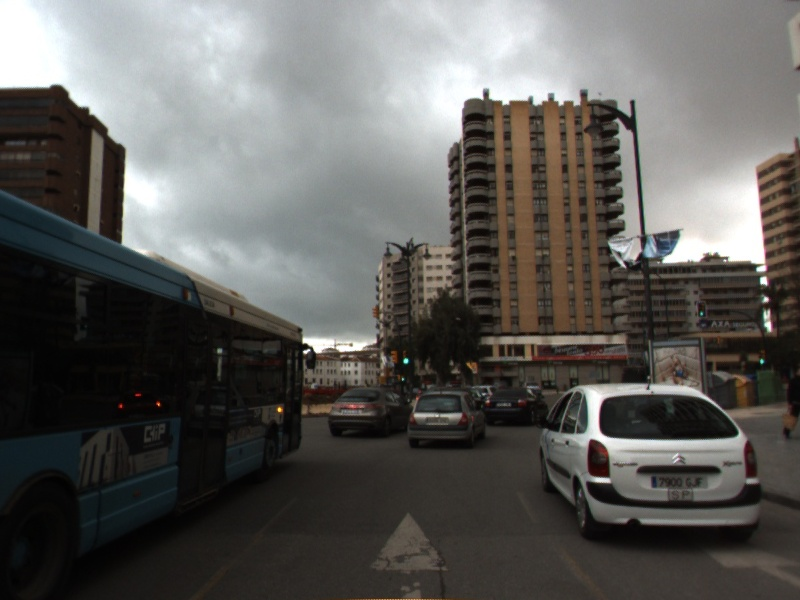STRAIGHT: (366, 505, 455, 600), (696, 532, 800, 588)
